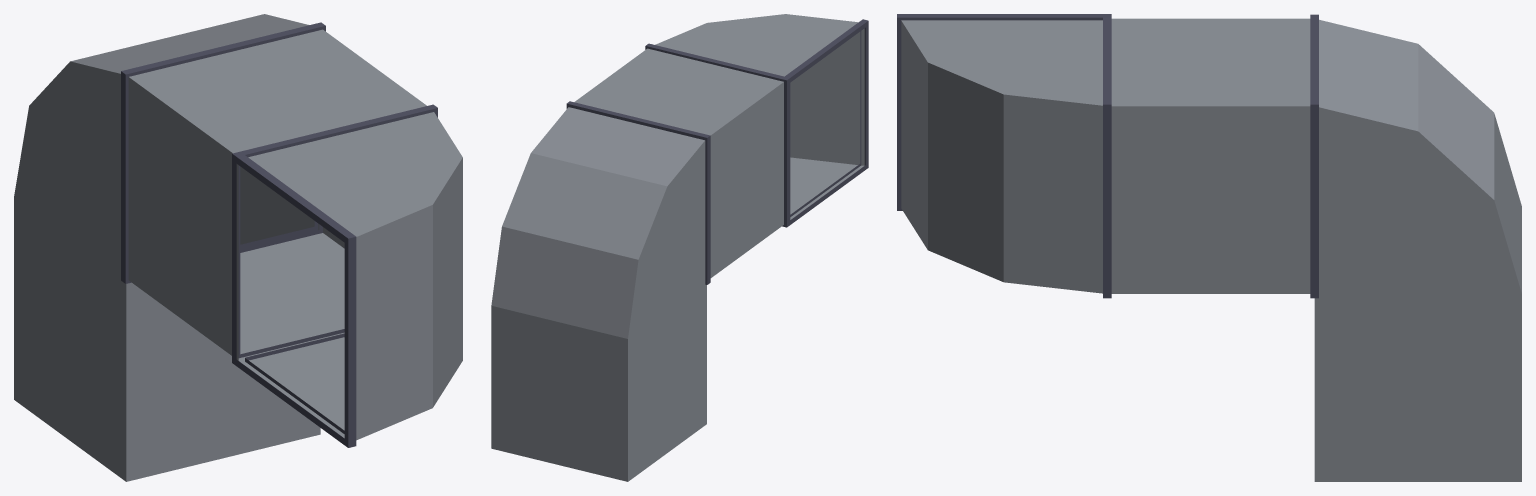
The model's file is SM_BuildingsDecor_28.fbx.
The picture shows the model from 3 angles, left to right: view 1: azimuth 30°, elevation 25°; view 2: azimuth 150°, elevation 25°; view 3: azimuth 270°, elevation 25°; orthographic projection. The views are drawn at different scales.
Parts seen in each view (by area): view 1: SM_BuildingsDecor_28; view 2: SM_BuildingsDecor_28; view 3: SM_BuildingsDecor_28.
Part boxes in pixels (box(x1,y1,x2,y2)): SM_BuildingsDecor_28: box(14, 14, 462, 481); SM_BuildingsDecor_28: box(491, 14, 868, 481); SM_BuildingsDecor_28: box(897, 14, 1521, 481).
Bounding box in the file's own units: 0.4972 × 0.9672 × 1.45.
